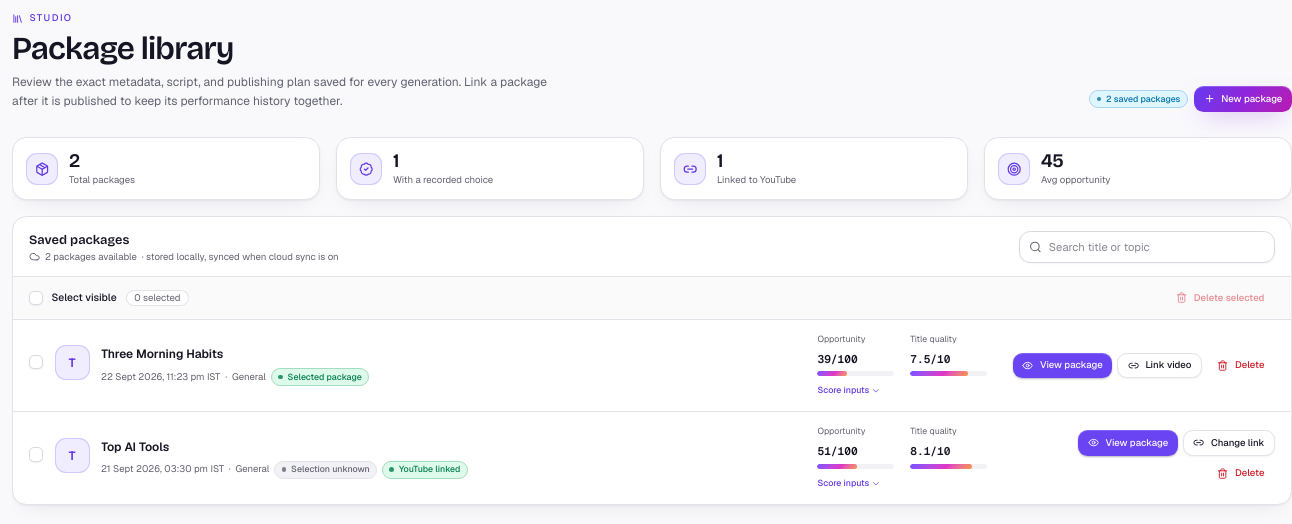
Test: HistoryPage › filters rows by search and reports the match count
Check: the button "Three Morning Habits" is shown, box [101,345,223,363]
Type "morning" into the search field named "Search saved packages" at (1147, 247), box [1019,231,1275,263]
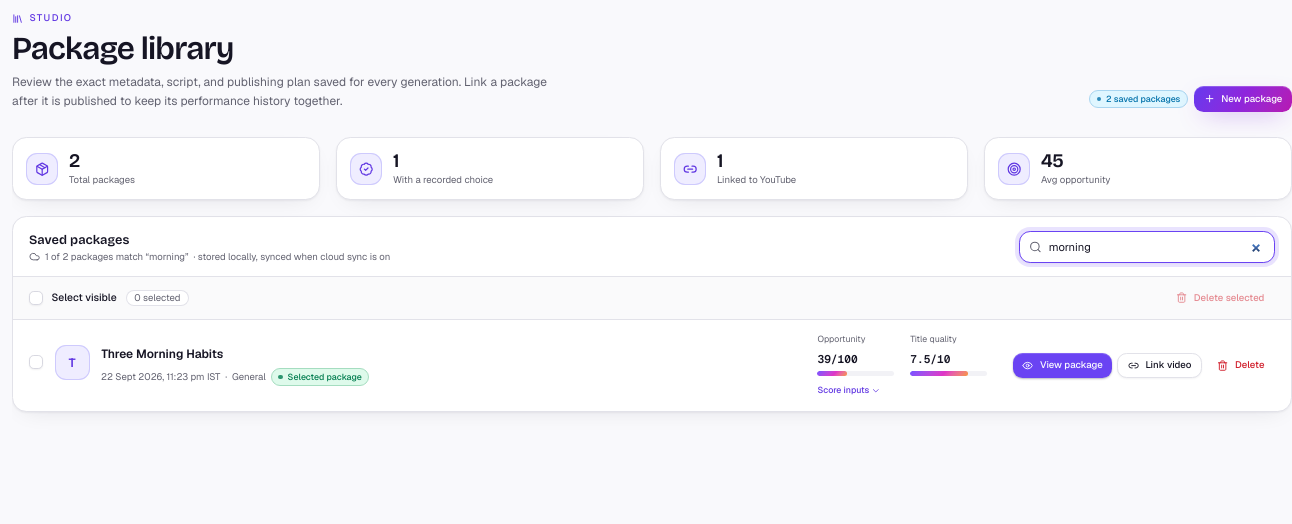
Check: the button "Top AI Tools" is gone
Check: the text with test id "history-result-summary" shows "1 of 2 packages match", box [45,250,189,263]
